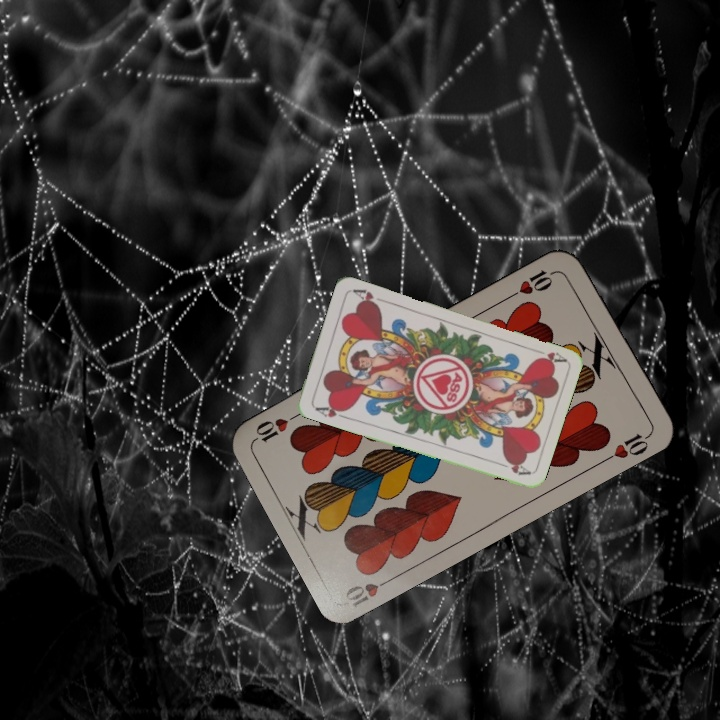H10: (341, 572, 398, 610), (506, 265, 560, 301)
HA: (528, 344, 568, 367), (311, 400, 350, 421)
